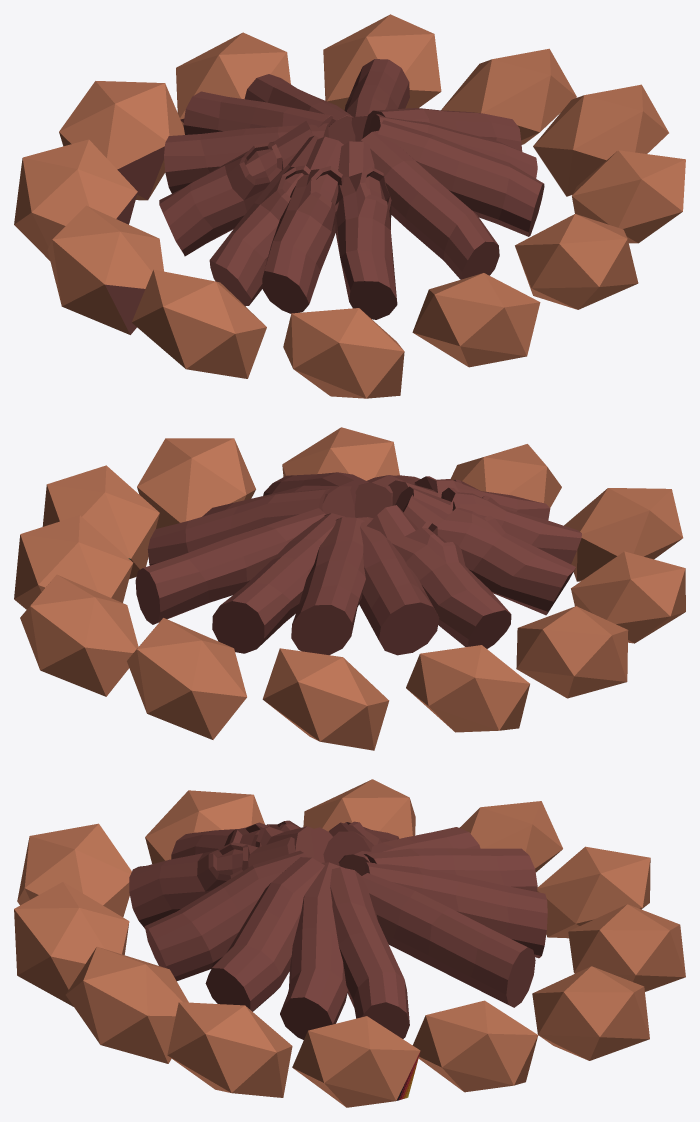
Rendered from Fogata.Proyecto.fbx.
3 views of the same model, one above another, from view 1: azimuth 30°, elevation 25°; view 2: azimuth 150°, elevation 25°; view 3: azimuth 270°, elevation 25° (orthographic). The views are drawn at different scales.
Visible parts, largest first — view 1: Icosphere.012; view 2: Icosphere.012; view 3: Icosphere.012.
Boxes of the visible parts, x1=… form: Icosphere.012: x1=14, y1=14, x2=685, y2=398; Icosphere.012: x1=14, y1=427, x2=685, y2=750; Icosphere.012: x1=14, y1=779, x2=685, y2=1107.
Bounding box in the file's own units: 372 × 90.76 × 370.
Materials: 1 (1 with a texture image).
